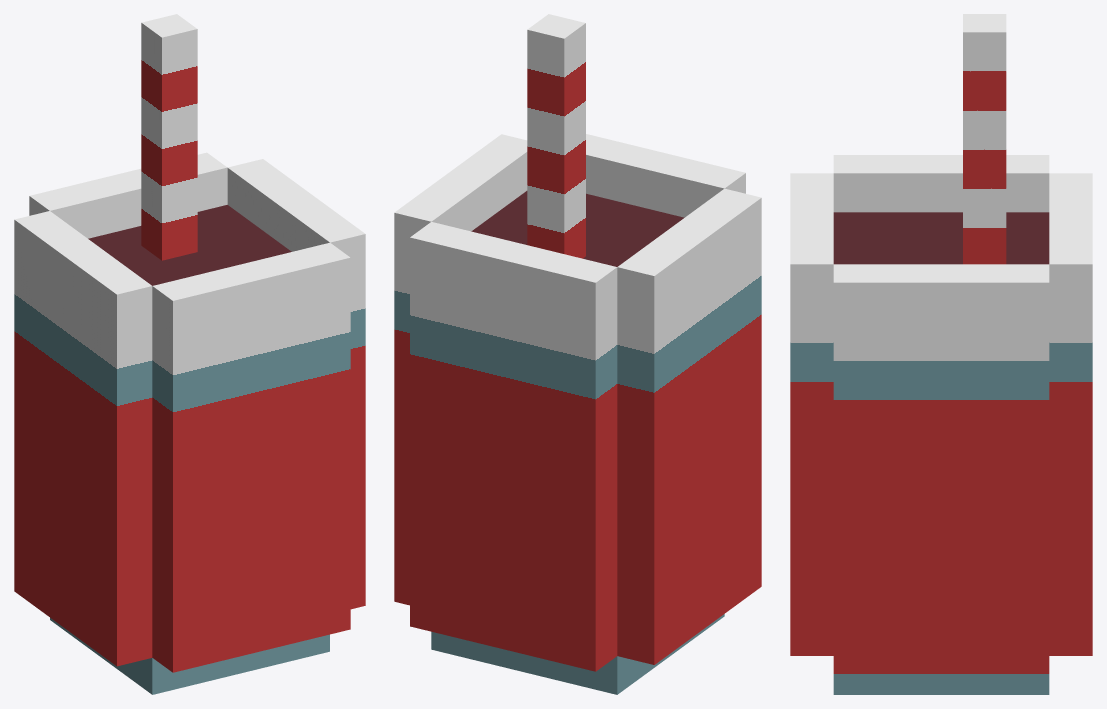
File: napoj.dae
The picture shows the model from 3 angles, left to right: view 1: azimuth 30°, elevation 25°; view 2: azimuth 150°, elevation 25°; view 3: azimuth 270°, elevation 25°; orthographic projection. The views are drawn at different scales.
Visible parts, largest first — view 1: napoj; view 2: napoj; view 3: napoj.
Boxes of the visible parts, <box> form: napoj: <box>14,14,365,694</box>; napoj: <box>394,14,761,694</box>; napoj: <box>790,14,1092,694</box>.
Size of the model in its own units: 7 by 16 by 7.
1 material, 1 textured.
